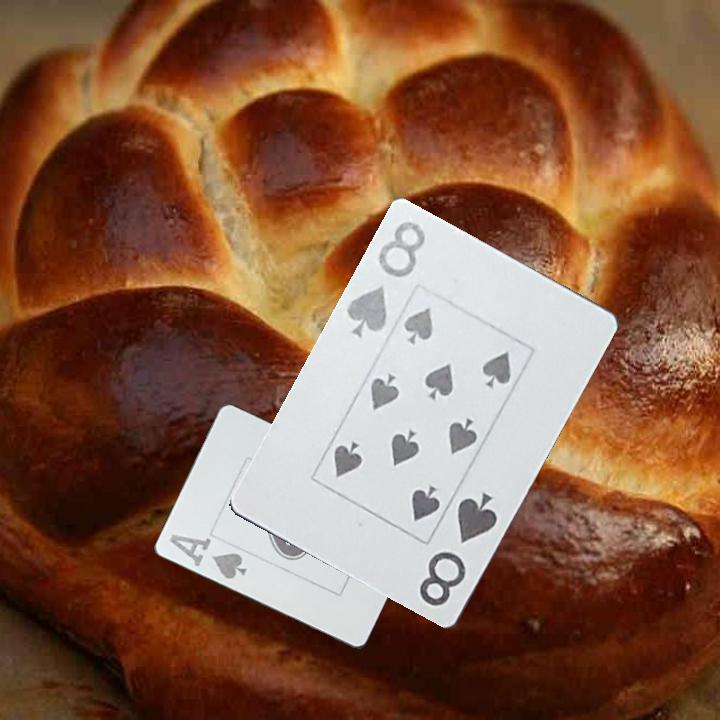8s: (343, 218, 429, 341), (415, 489, 501, 610)
As: (166, 530, 249, 582)
